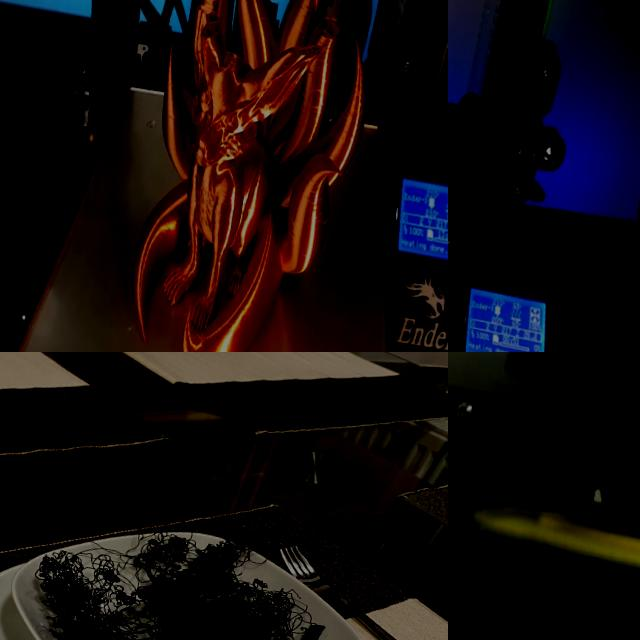spaghetti: (9, 522, 353, 640)
